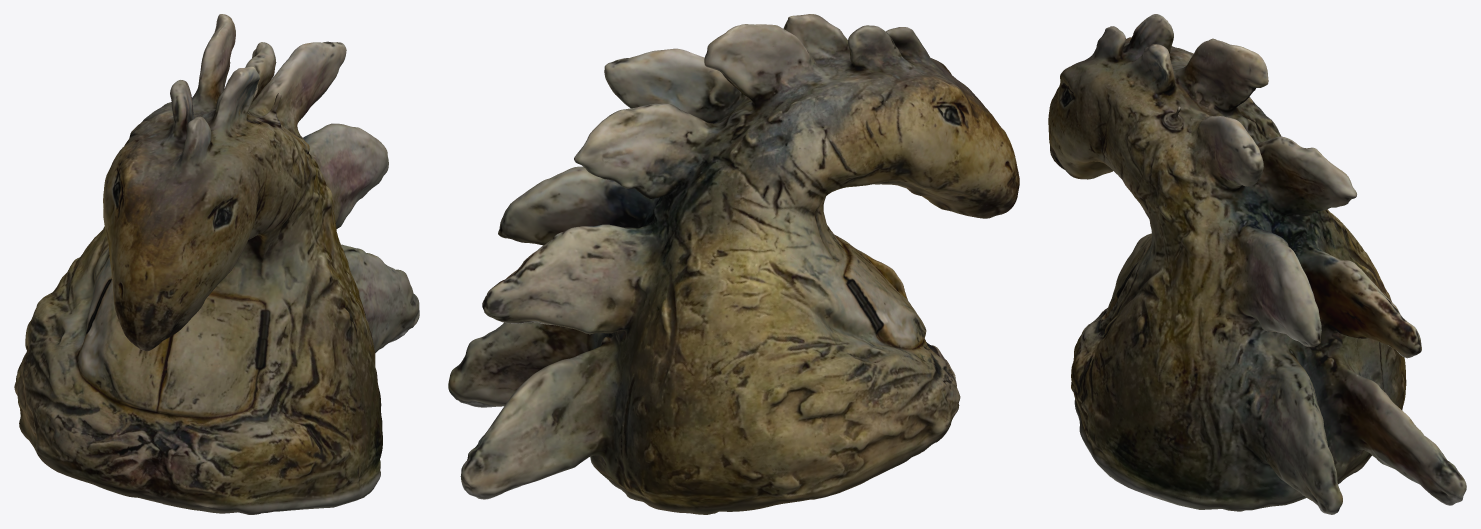
The model's file is sculpture3_masked_web.glb.
The picture shows the model from 3 angles, left to right: view 1: azimuth 30°, elevation 25°; view 2: azimuth 150°, elevation 25°; view 3: azimuth 270°, elevation 25°; orthographic projection. The views are drawn at different scales.
Visible parts, largest first — view 1: ObjectCapture; view 2: ObjectCapture; view 3: ObjectCapture.
Part boxes in pixels (x1=…): ObjectCapture: x1=14, y1=14, x2=419, y2=514; ObjectCapture: x1=448, y1=14, x2=1019, y2=514; ObjectCapture: x1=1048, y1=14, x2=1466, y2=514.
Bounding box in the file's own units: 0.2325 × 0.2285 × 0.2094.
Materials: 1 (1 with a texture image).
